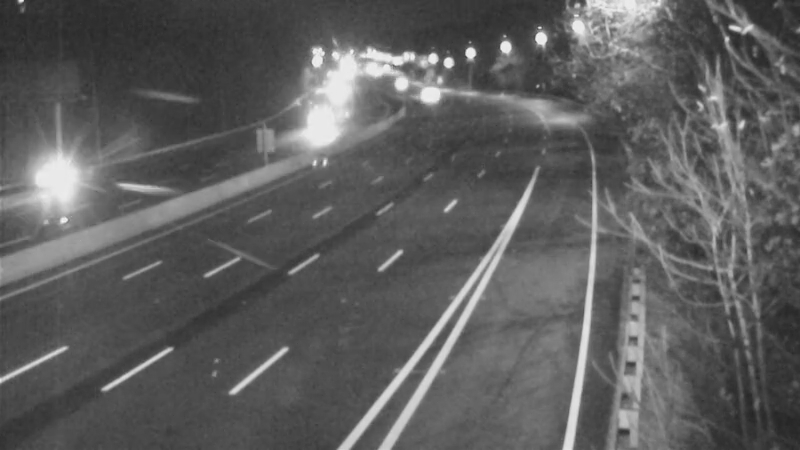vehicle: (18, 138, 98, 218), (369, 58, 419, 108), (402, 69, 452, 119), (290, 97, 340, 147)
